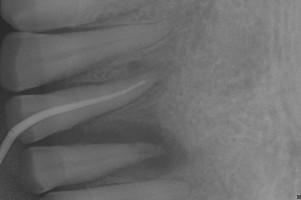Dental Caries: (75, 119, 186, 179)
Furcation Involvement: (115, 56, 173, 106)
